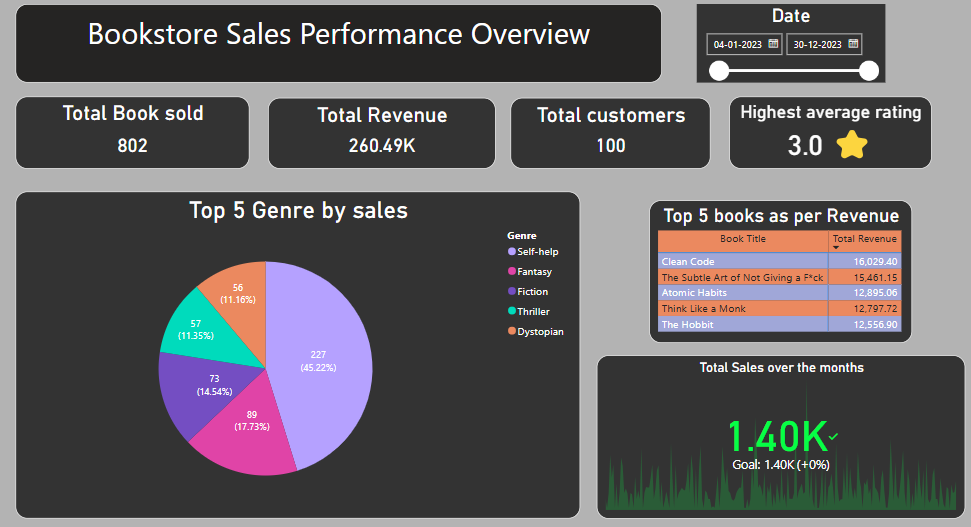

What the dashboard file says about the page in this screenshot:
{"tool":"powerbi","page":{"name":"Page 1","canvas":[1280,720],"ordinal":0},"visuals":[{"type":"card","title":"Total Revenue","fields":{"Values":["Sum(Sales.total_amount)"]},"box":[362.5,138.3,289.4,90.6],"z":0},{"type":"card","title":"Total Book sold","fields":{"Values":["Sum(Sales.quantity)"]},"box":[41.3,136.8,297.4,92.2],"z":1000},{"type":"card","title":"Total customers","fields":{"Values":["CountNonNull(Customers.customer_id)"]},"box":[671,138.3,254.4,90.6],"z":2000},{"type":"pivotTable","title":"Top 5 books as per Revenue","fields":{"Rows":["Books.title"],"Values":["Sum(Sales.total_amount)"]},"box":[847.3,268.6,334.8,181.6],"z":3000},{"type":"kpi","title":"Total Sales over the months","fields":{"Indicator":["Sum(Sales.total_amount)"],"TrendLine":["Sales.sale_date"],"Goal":["Avg(Sales.total_amount)"]},"box":[781.1,465.3,469,208],"z":4000},{"type":"pieChart","title":"Top 5 Genre by sales","fields":{"Category":["Books.genre"],"Y":["Sum(Sales.quantity)"]},"box":[41.6,257.2,718.7,416.1],"z":5000},{"type":"textbox","box":[41.6,18.9,822.7,100.2],"z":6000},{"type":"slicer","title":"Date","fields":{"Values":["Sales.sale_date"]},"box":[907.8,18.9,240.2,100.2],"z":7000},{"type":"card","title":"Highest average rating","fields":{"Values":["Reviews.AverageRating_Star"]},"box":[949.3,136.8,257.6,92.2],"z":7001}]}

Visuals, with their boxes on the page's 1280x720 design canvas (x1, y1, x2, y2). These are canvas units, not pixel positions in the 971x527 screenshot, which may show the page scaled, cropped or inside an application window:
"Total Revenue" card: region(362, 138, 652, 229)
"Total Book sold" card: region(41, 137, 339, 229)
"Total customers" card: region(671, 138, 925, 229)
"Top 5 books as per Revenue" pivotTable: region(847, 269, 1182, 450)
"Total Sales over the months" kpi: region(781, 465, 1250, 673)
"Top 5 Genre by sales" pieChart: region(42, 257, 760, 673)
textbox: region(42, 19, 864, 119)
"Date" slicer: region(908, 19, 1148, 119)
"Highest average rating" card: region(949, 137, 1207, 229)
